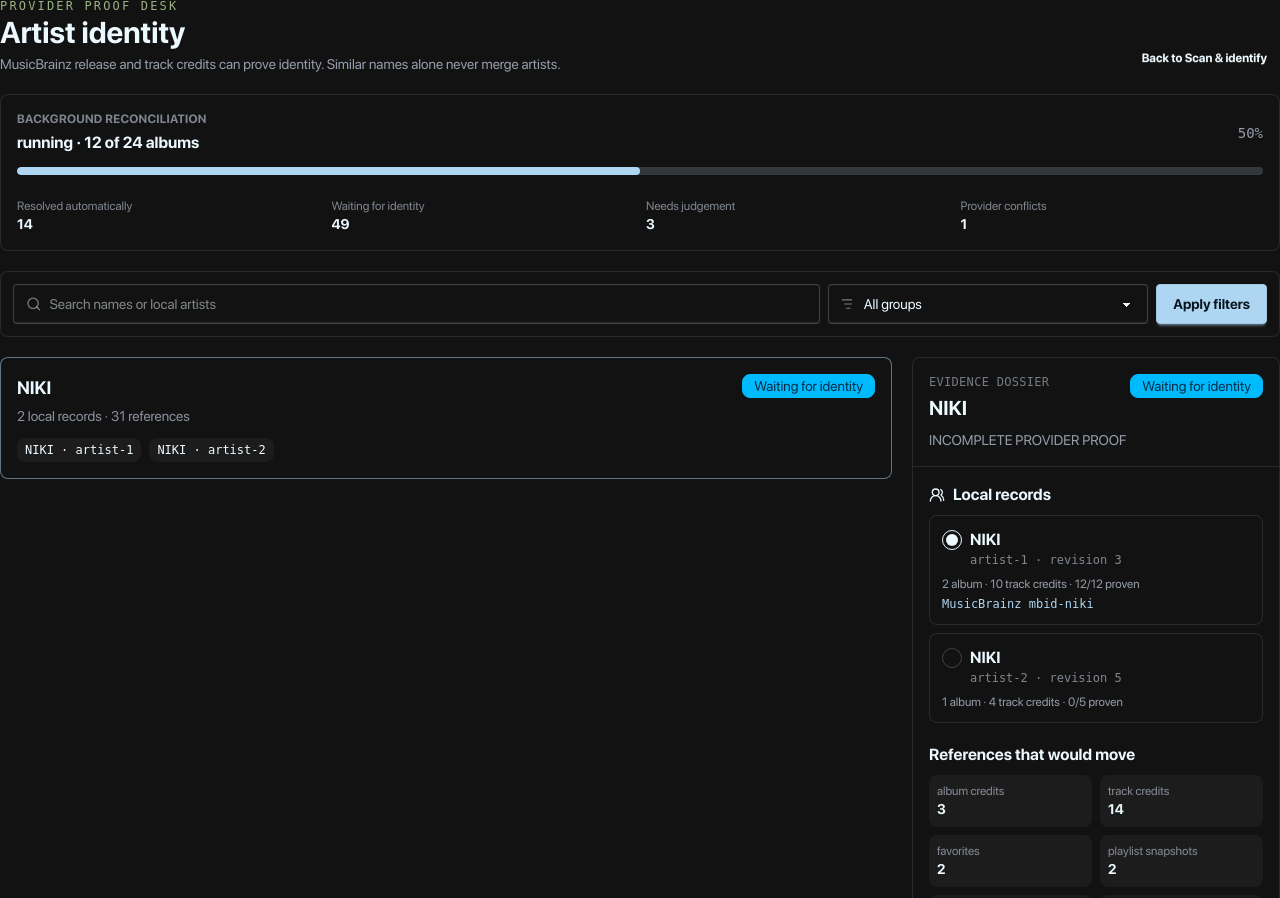
Test case: ArtistIdentityDesk › keeps a stale preview safe and requires a new one
This screenshot has width=1280, height=898.
Click the button "NIKI".
click(34, 388)  # box left=0, top=357, right=892, bottom=479
(page scrolled)
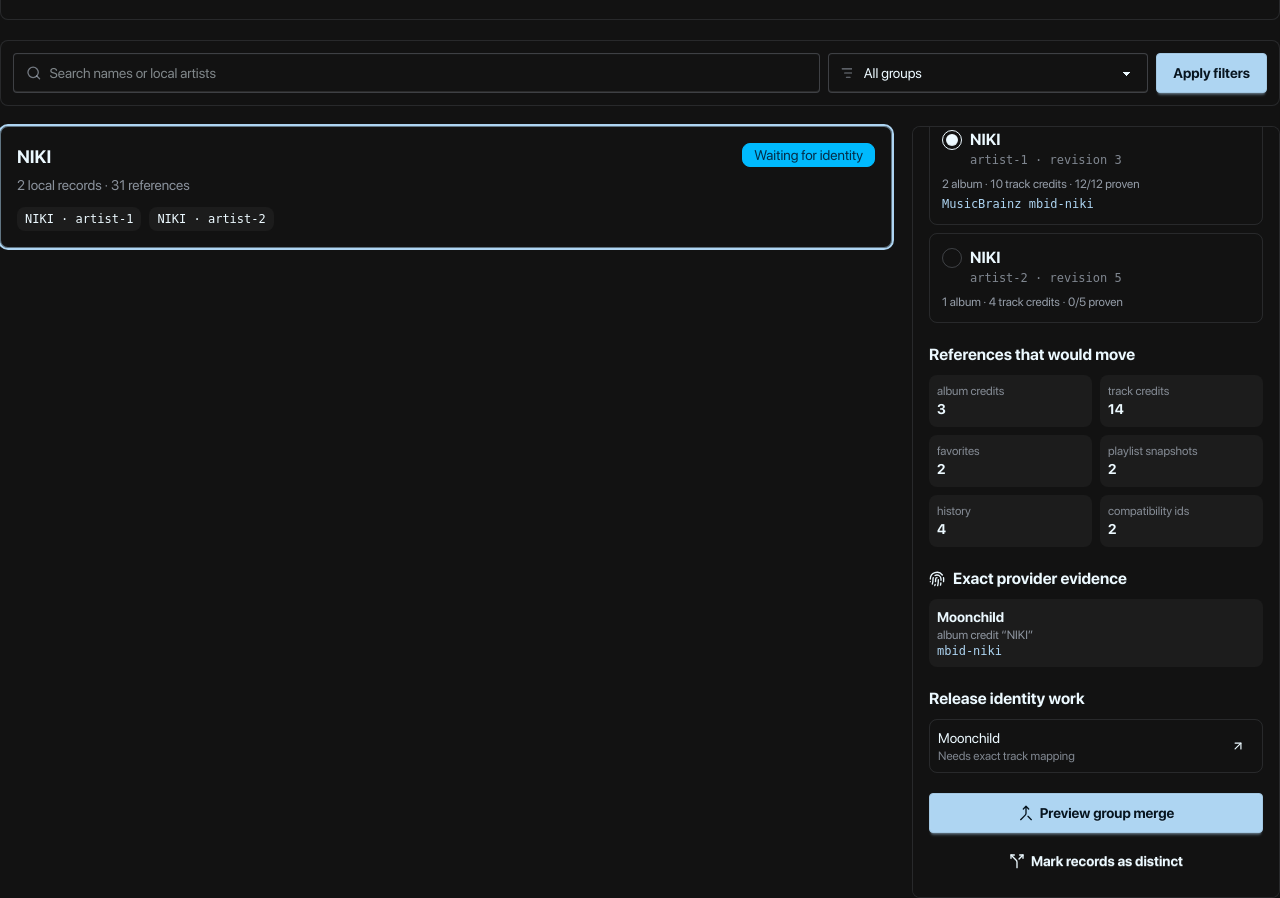
Click the button "Preview group merge".
click(1096, 813)  # box left=929, top=793, right=1263, bottom=833
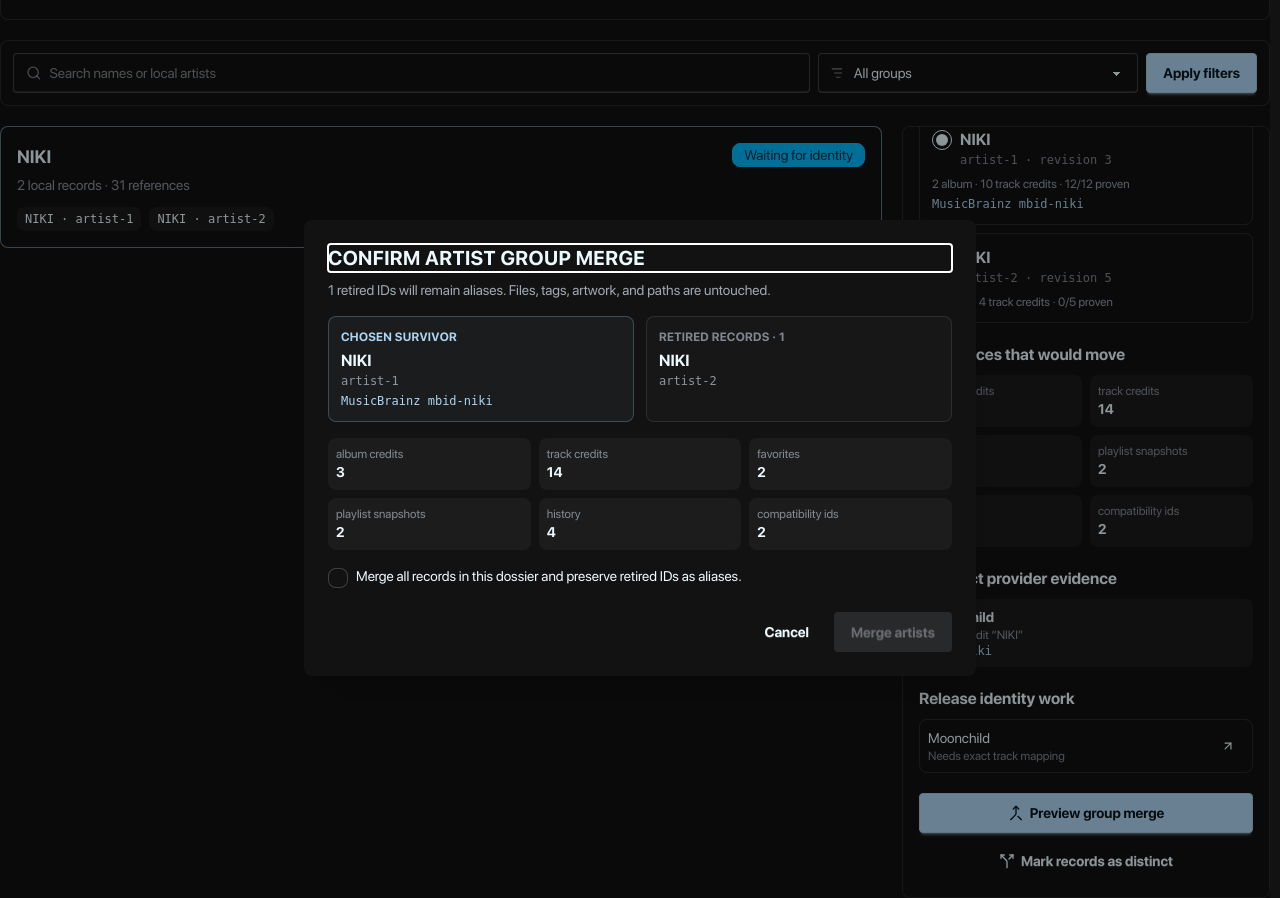
Click the checkbox labelled "preserve retired IDs".
click(338, 578)  # box left=328, top=568, right=348, bottom=588
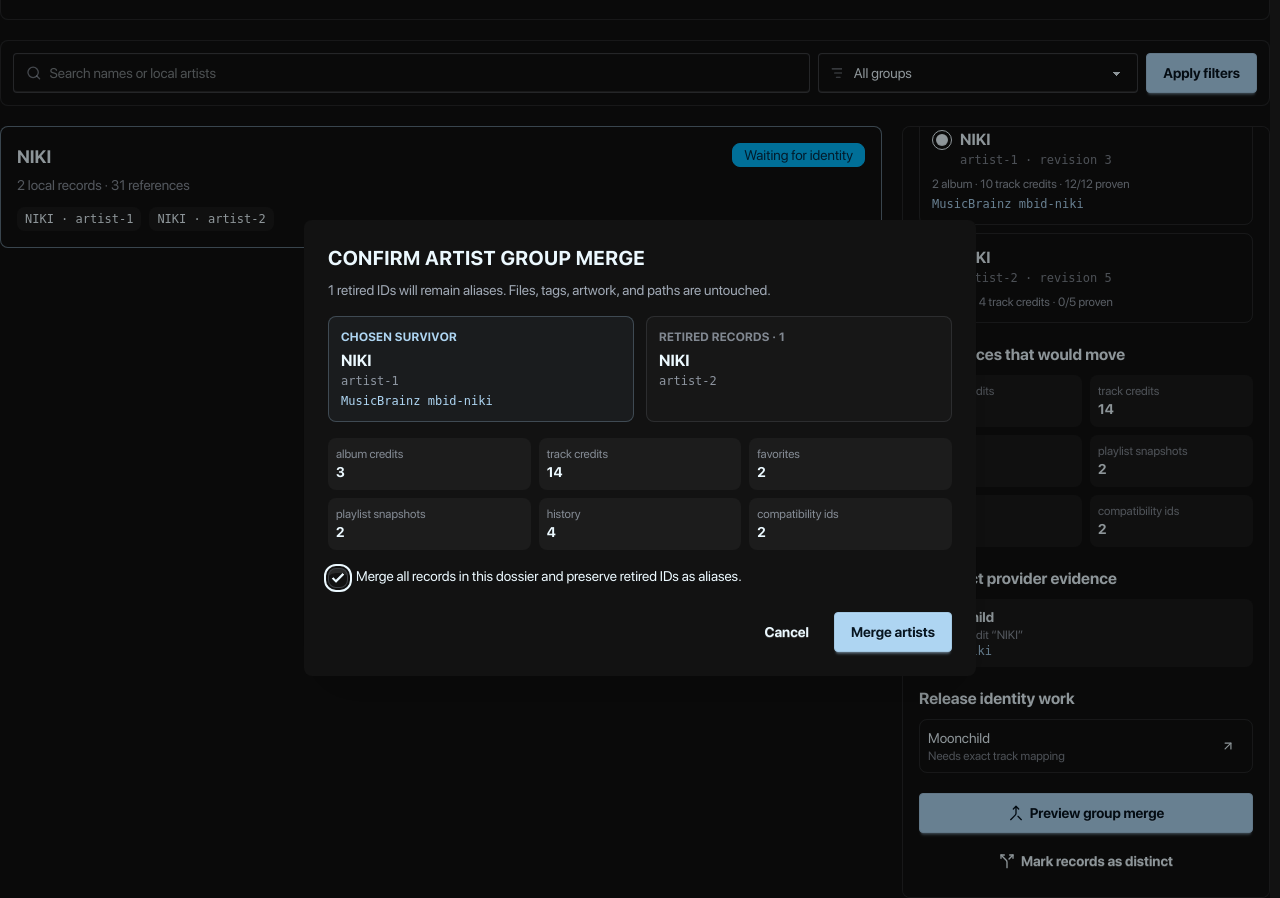
Click the button "Merge artists".
click(893, 632)  # box left=834, top=612, right=952, bottom=652
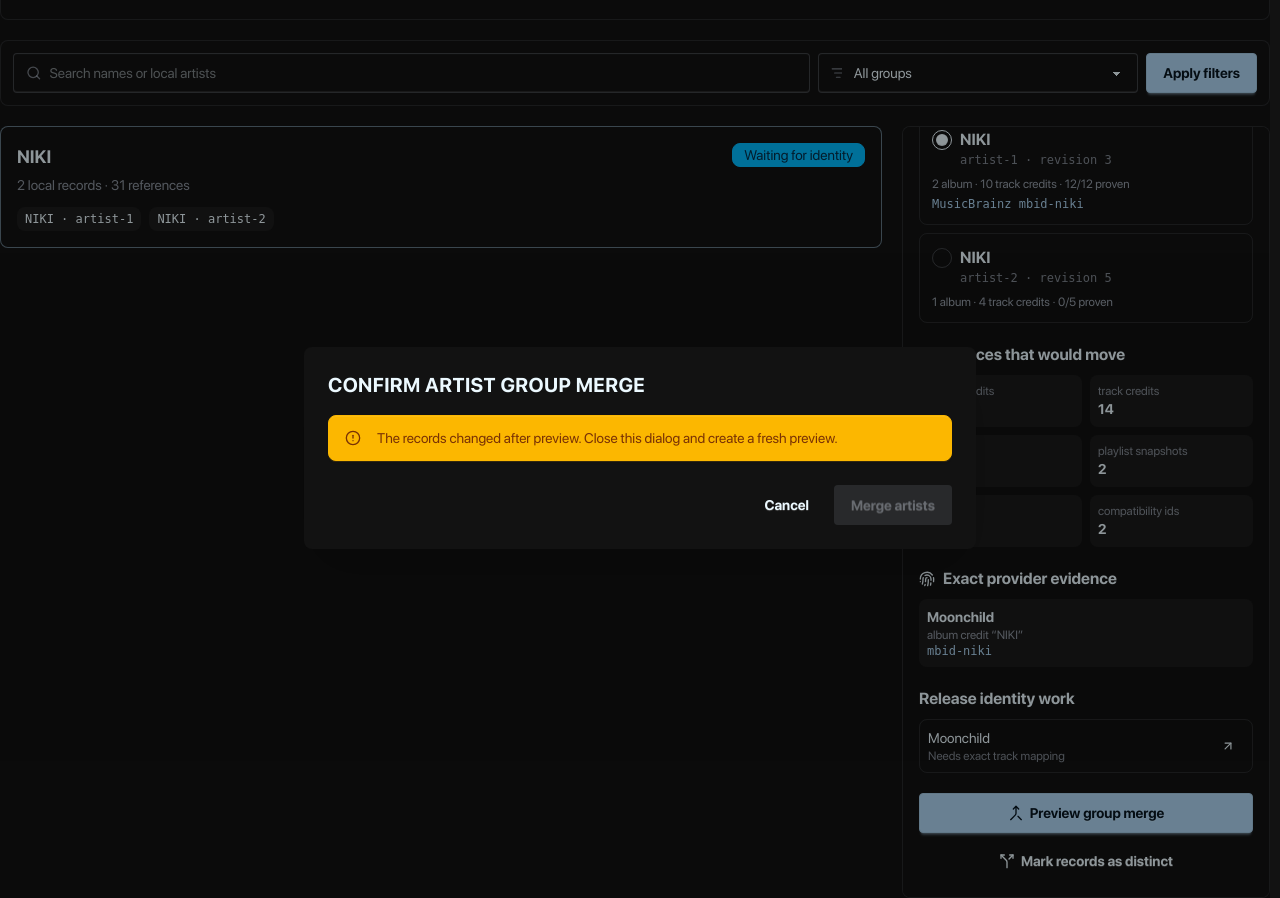
Now the text "changed after preview" is shown, box left=377, top=430, right=838, bottom=446
Now the button "Merge artists" is disabled, box left=834, top=485, right=952, bottom=525
